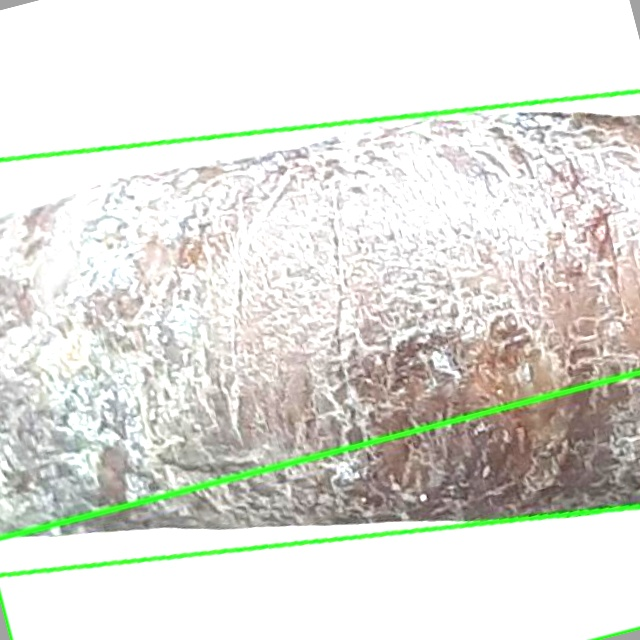Eczema: (0, 97, 639, 570), (0, 372, 639, 639)
